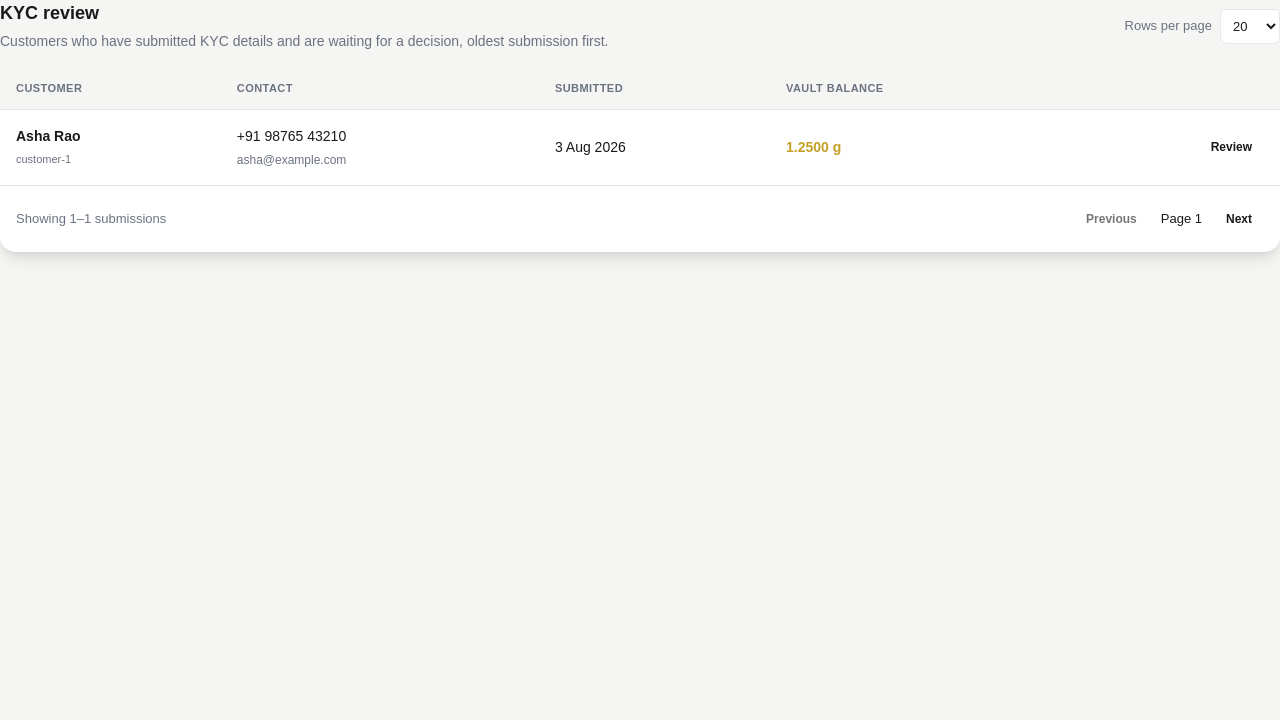
Test case: KYC review queue › closes the dialog and explains when the customer is gone (403)
This screenshot has width=1280, height=720.
Click the button with aria-label "Review KYC for Asha Rao" at (1231, 147), box [1199,127,1264,167]
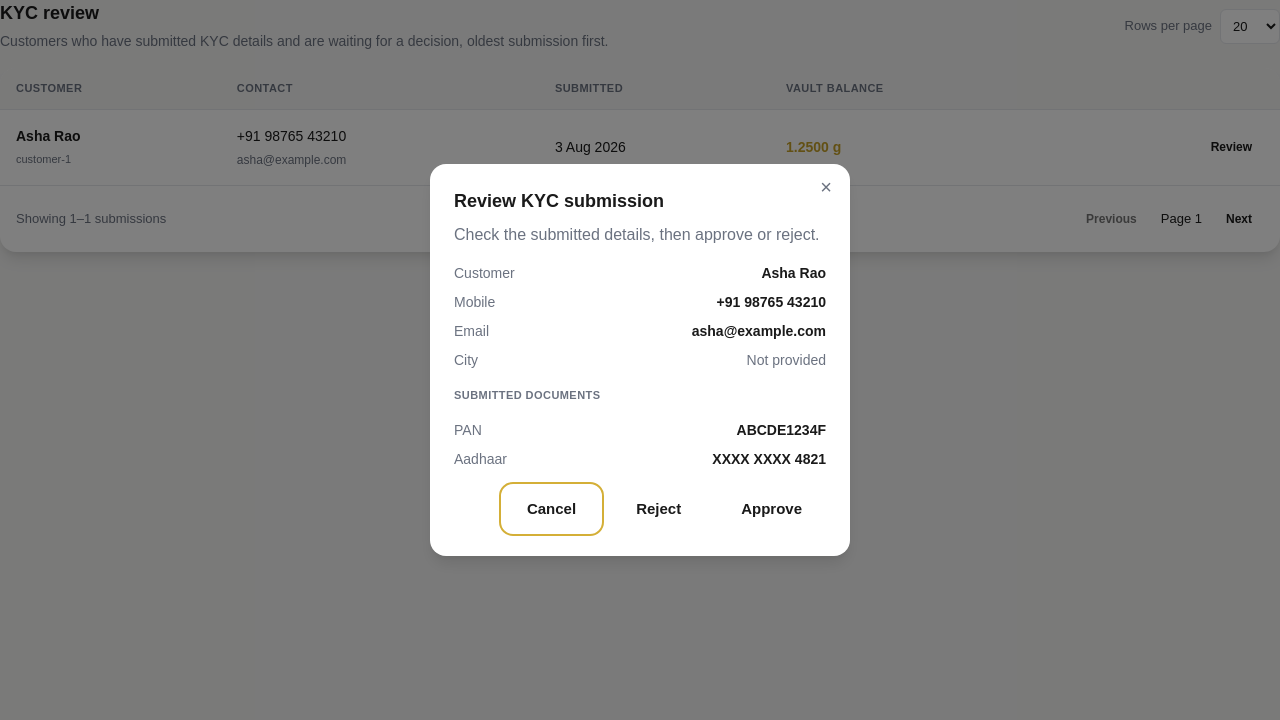
Click the button "Approve" at (772, 509), box [717,486,826,532]
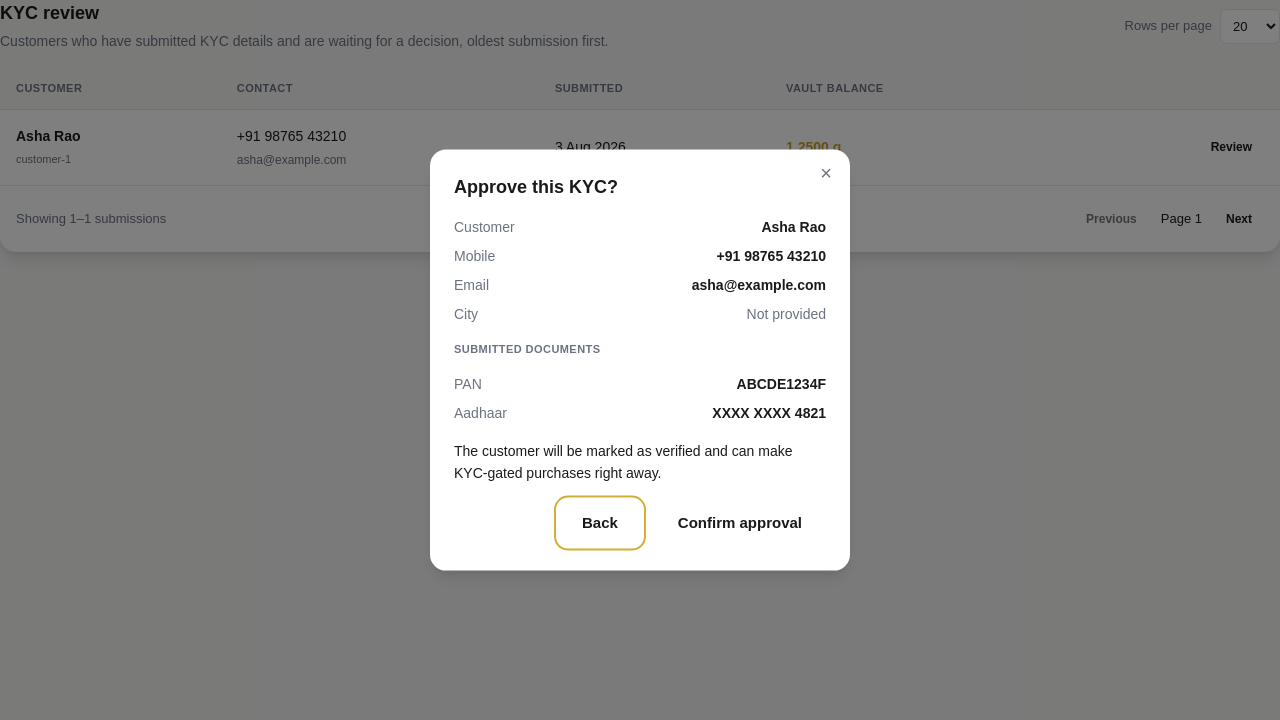
Click the button "Confirm approval" at (740, 523), box [654,500,826,546]
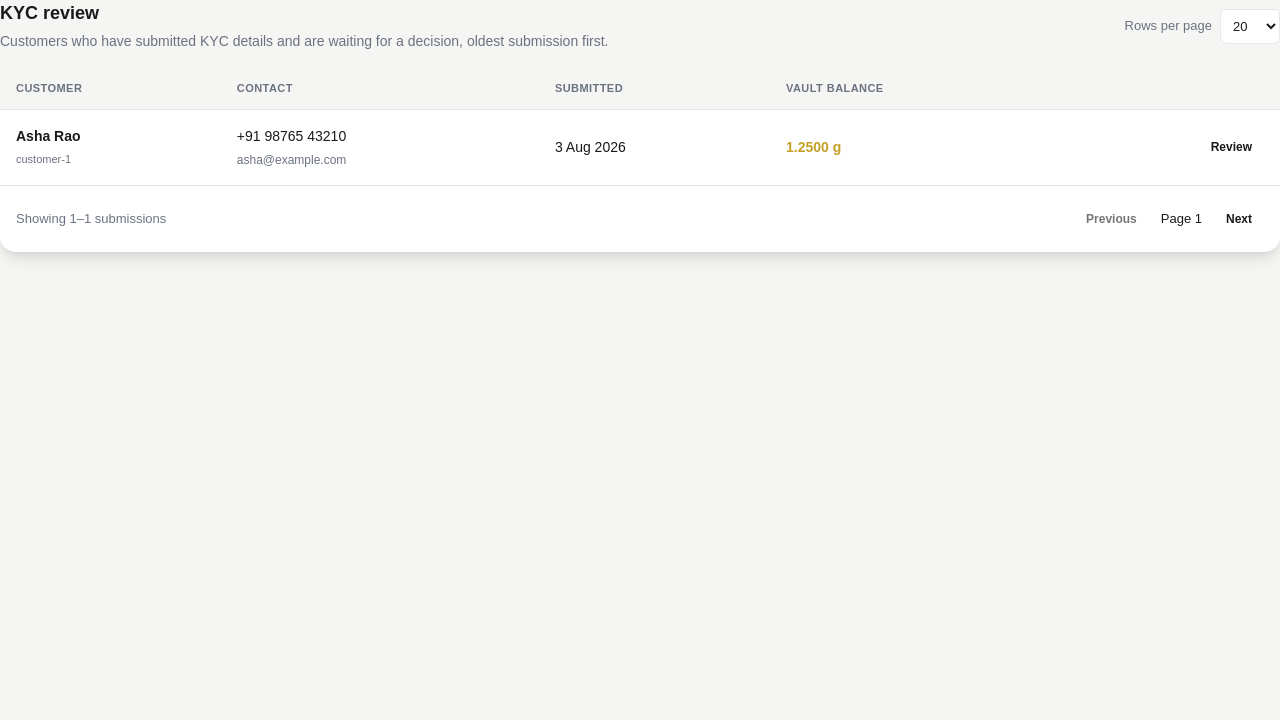
expect the dialog is gone: met
